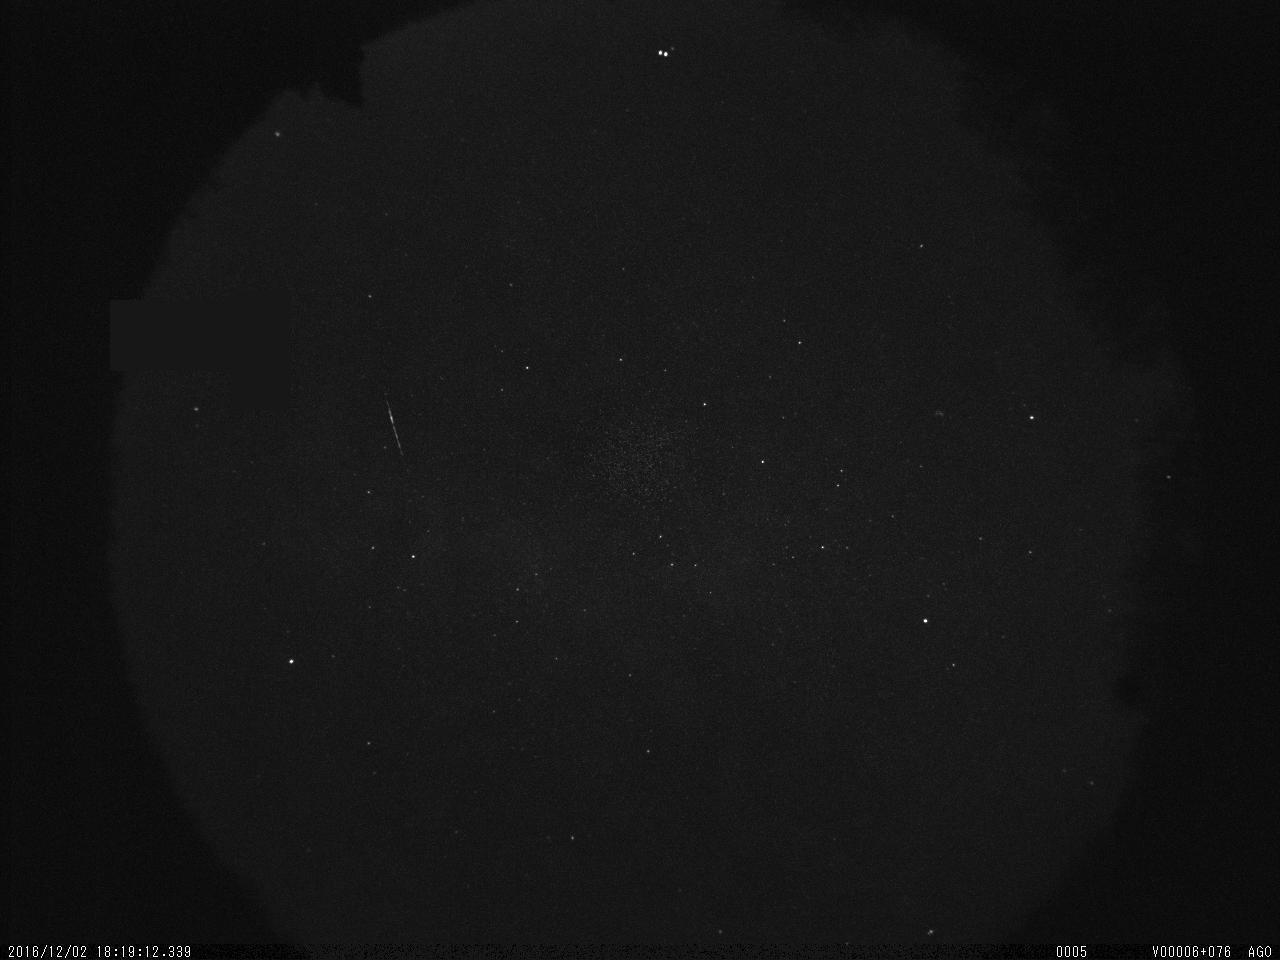meteor: (364, 387, 428, 458)
